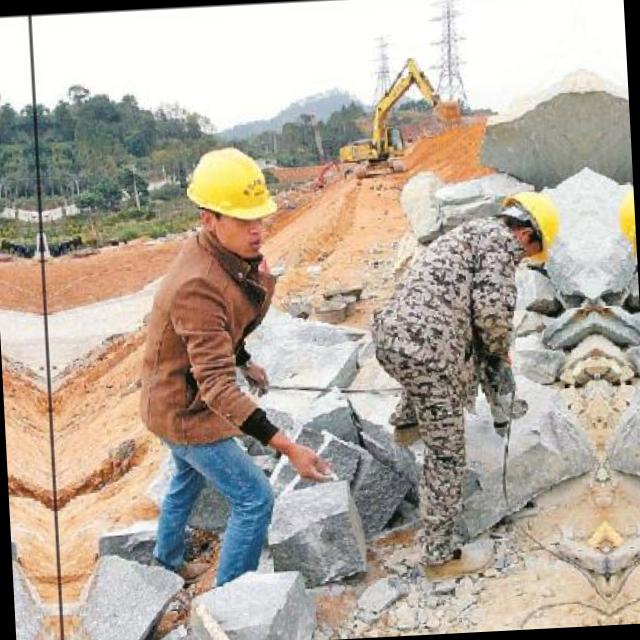helmet: (172, 138, 282, 259), (484, 182, 564, 261), (610, 178, 636, 255)
